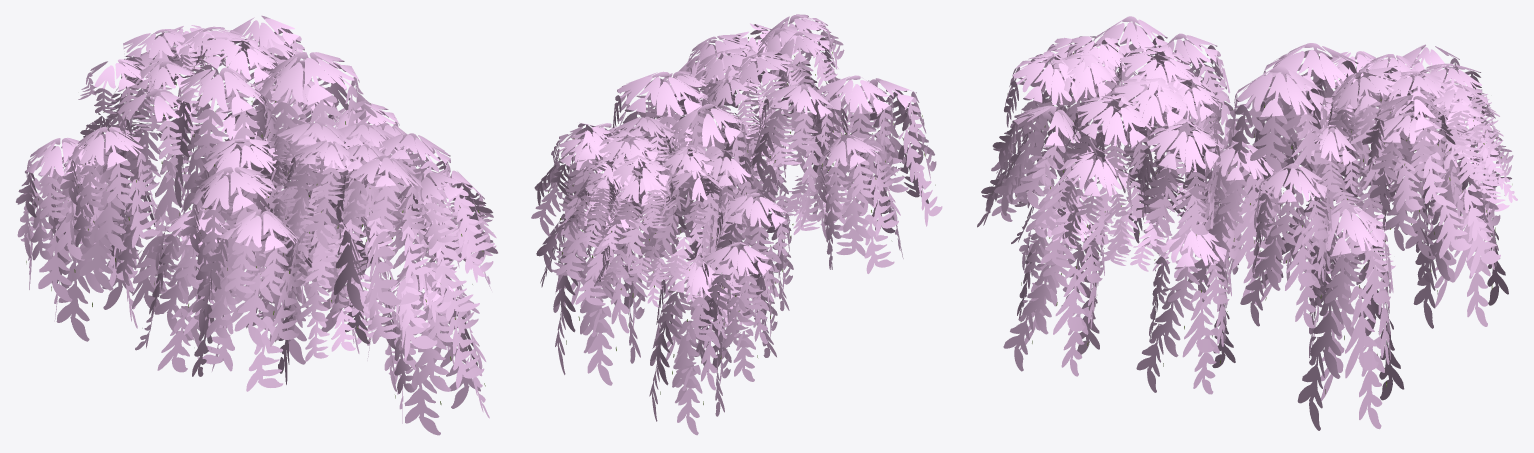
Rendered from willow_P_top_LOD0.fbx.
3 renders of one model, left to right at view 1: azimuth 30°, elevation 25°; view 2: azimuth 150°, elevation 25°; view 3: azimuth 270°, elevation 25°, orthographic. The views are drawn at different scales.
Parts seen in each view (by area): view 1: polySurface349; view 2: polySurface349; view 3: polySurface349.
Part boxes in pixels (bbox=[...]): polySurface349: bbox=[16, 15, 497, 435]; polySurface349: bbox=[531, 14, 942, 435]; polySurface349: bbox=[977, 16, 1517, 430].
Bounding box in the file's own units: 3.7 × 3.61 × 5.25.
